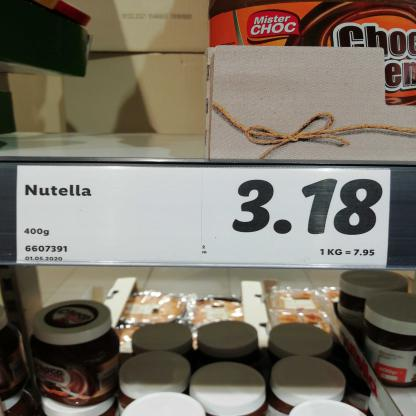prtg: (16, 165, 391, 268)
